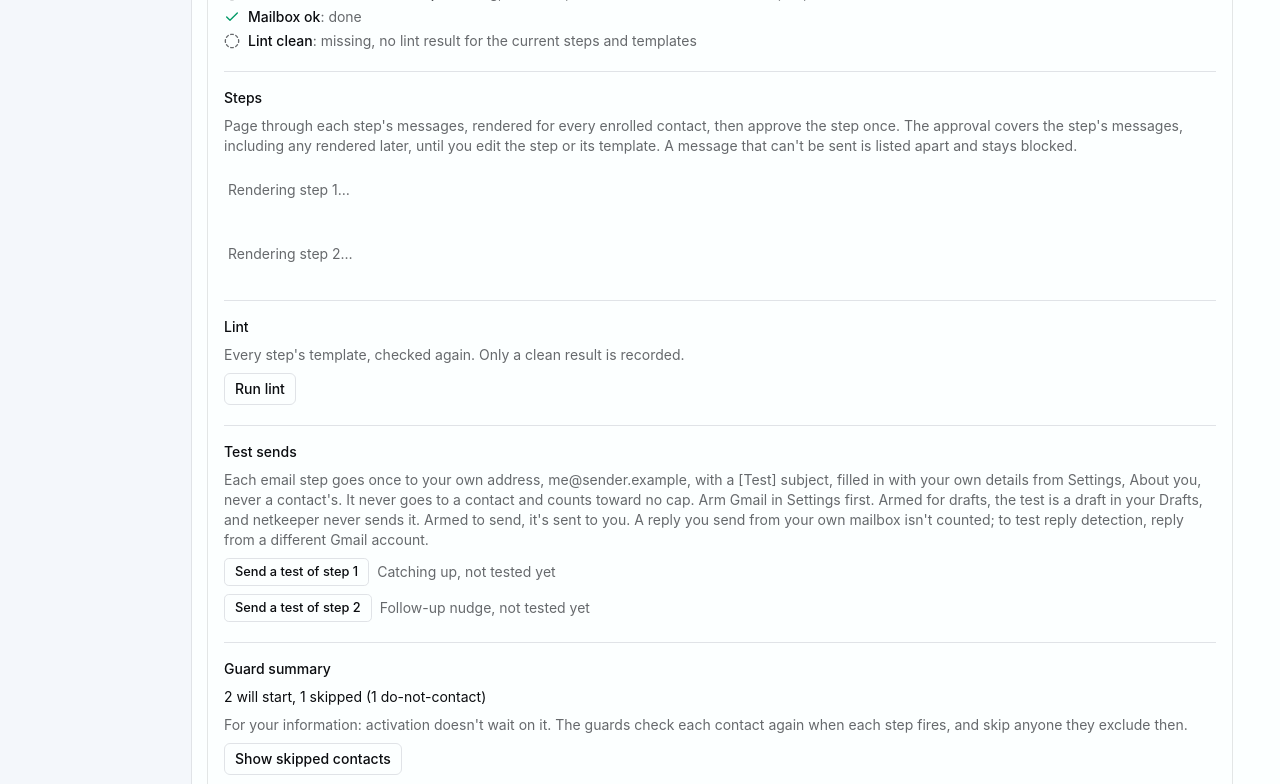
Test: review flow › shows lint errors per step
(page scrolled)
Click the button "Run lint".
click(260, 389)  # box [224, 373, 296, 405]
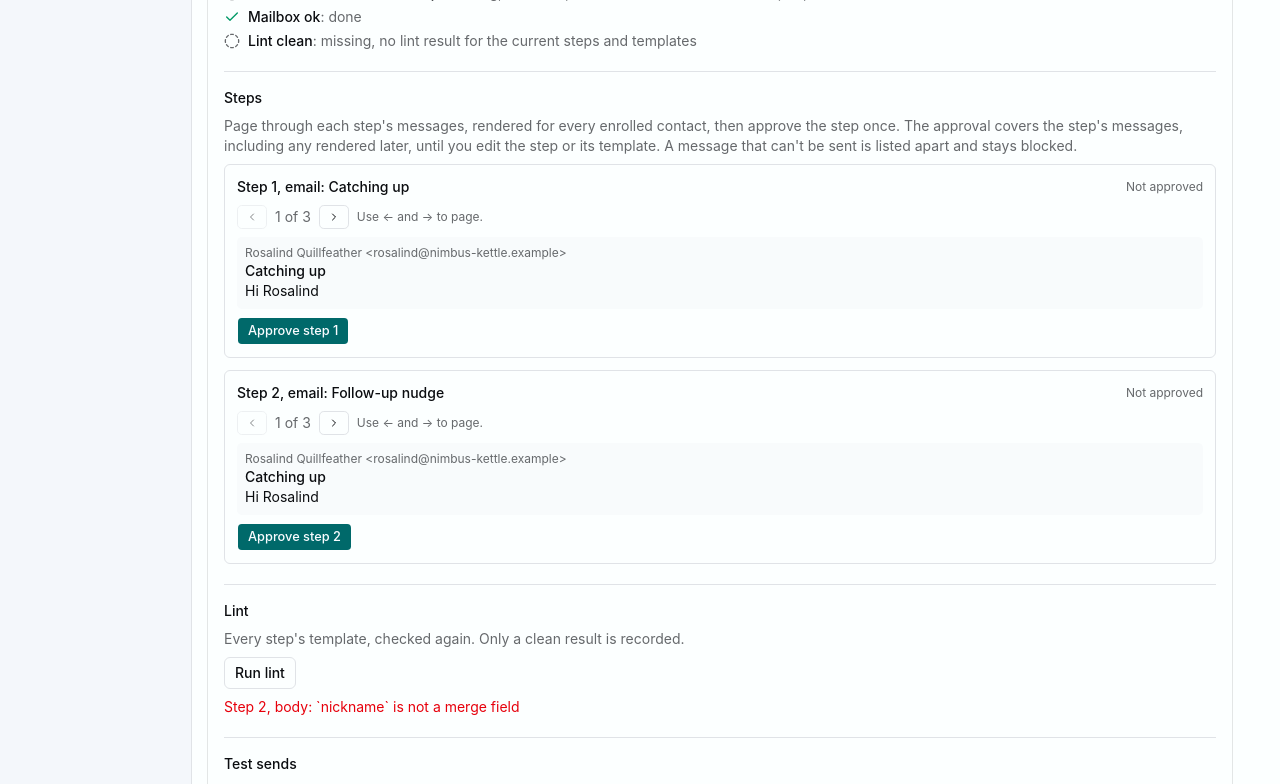
Result: the message reads "Step 2, body: `nickname` is not a merge field" at [224, 698, 520, 715]
